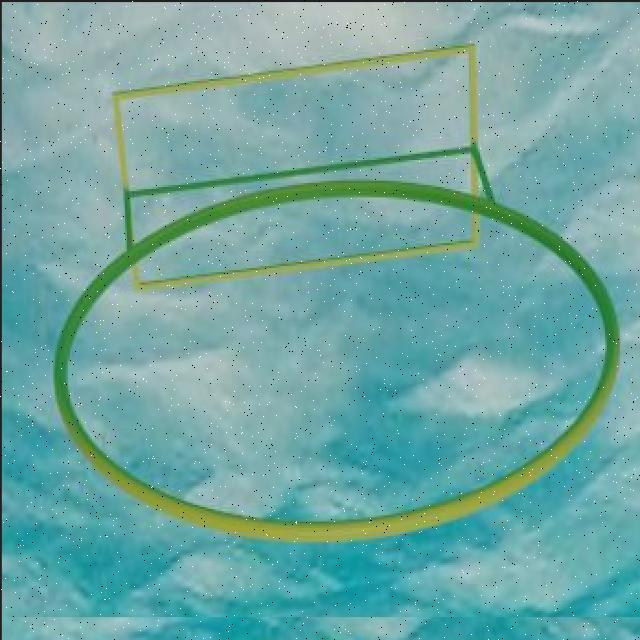Circle: (54, 180, 622, 545)
